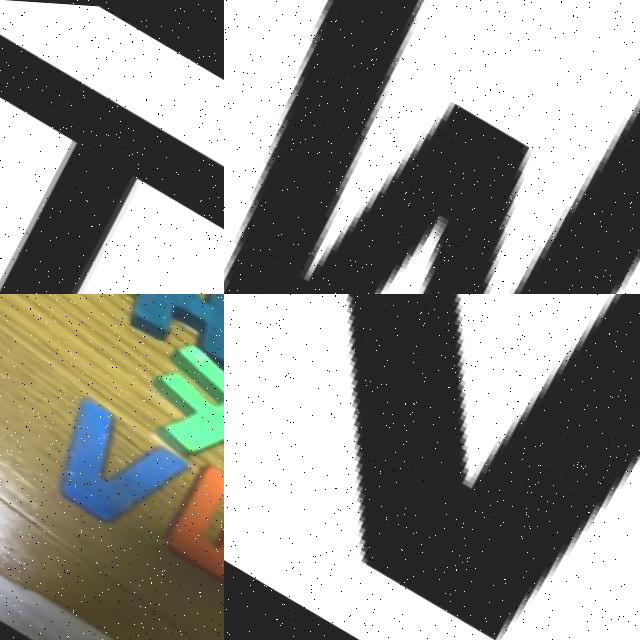F: (130, 322, 224, 483)
K: (102, 294, 224, 380)
T: (0, 0, 224, 294)
V: (224, 294, 640, 640), (30, 386, 188, 549)
W: (224, 0, 640, 294), (147, 447, 224, 617)
